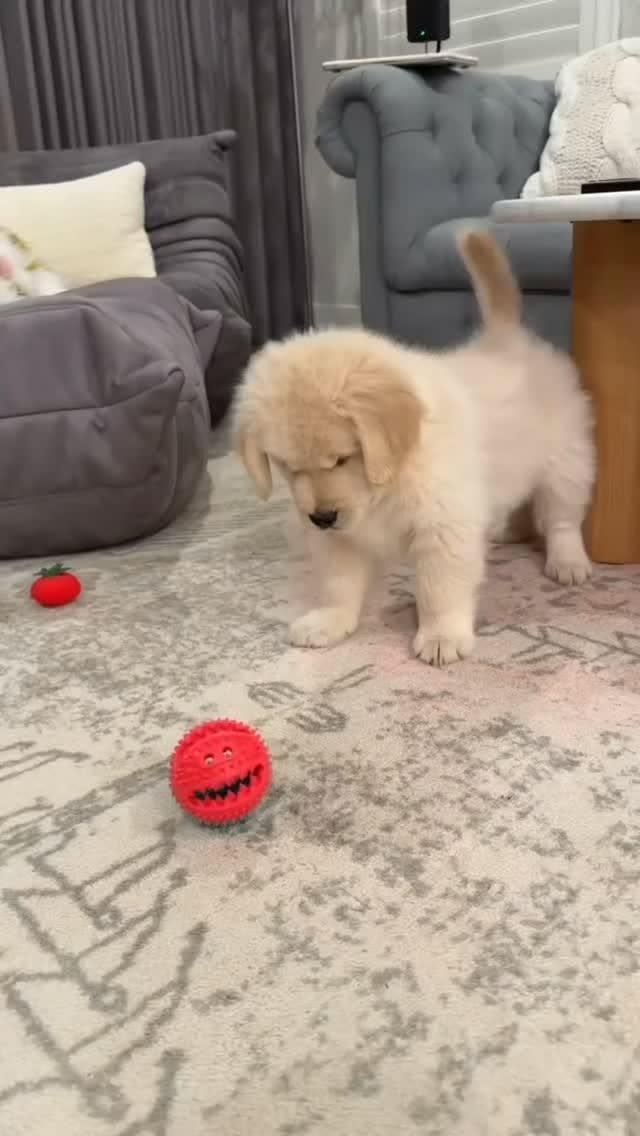puppy-dog: (228, 221, 598, 669)
